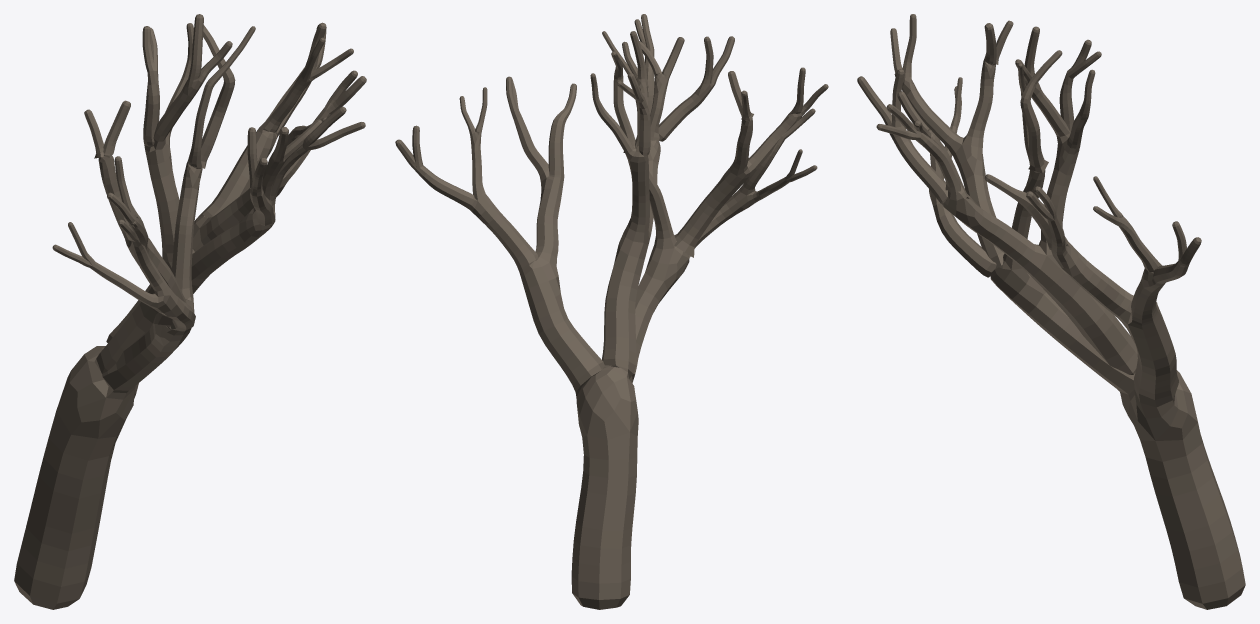
The model's file is dead_tree_3.glb.
The picture shows the model from 3 angles, left to right: view 1: azimuth 30°, elevation 25°; view 2: azimuth 150°, elevation 25°; view 3: azimuth 270°, elevation 25°; orthographic projection. The views are drawn at different scales.
Parts seen in each view (by area): view 1: tree; view 2: tree; view 3: tree.
Part boxes in pixels (x1,y1,x2,y2): tree: (14, 14, 366, 609); tree: (395, 14, 828, 609); tree: (857, 14, 1245, 609).
Size of the model in its own units: 3.65 by 5.6 by 3.29.
